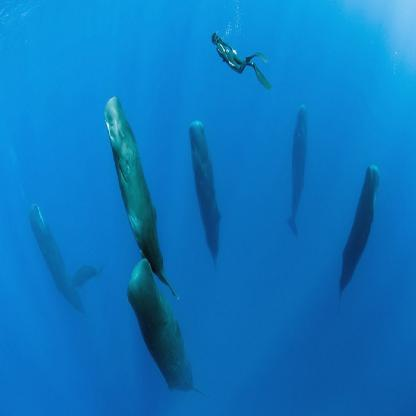sperm_whale: (98, 89, 167, 269), (173, 111, 233, 282), (328, 148, 390, 307), (280, 88, 320, 243)
